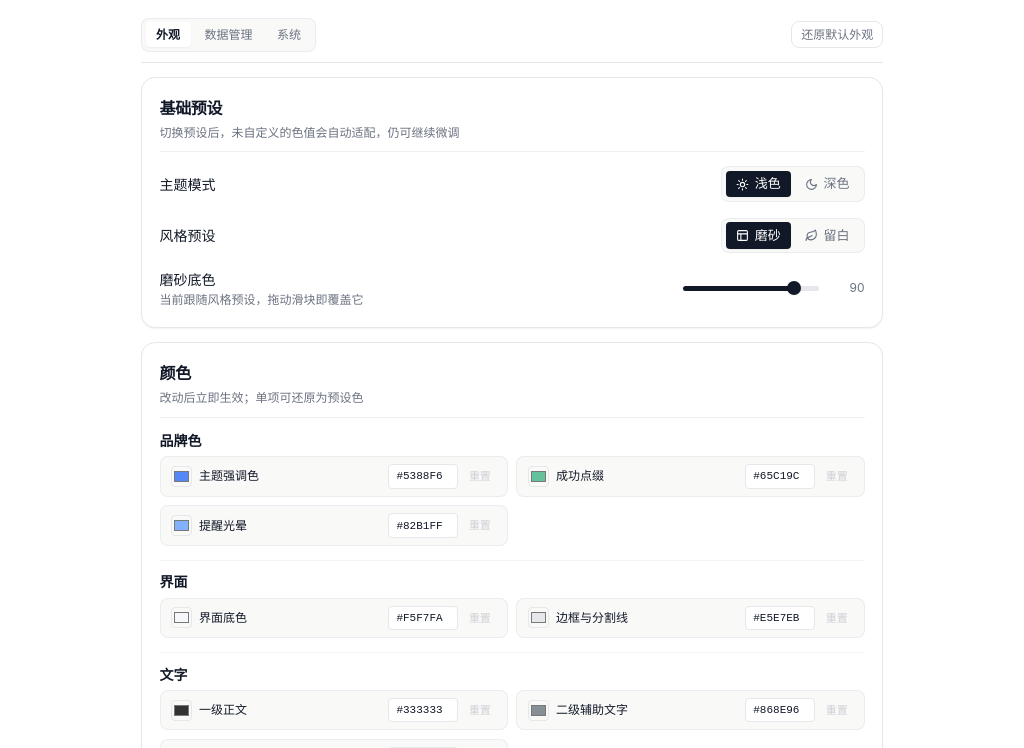
Test: 设置页与工作台整体重构验证 › 设置页「数据管理」分类标签使用双列卡片与内联新建输入框（无 window.prompt / 原生 select）
Click the tab "数据管理" at point(228, 34), box [194,22,263,47]
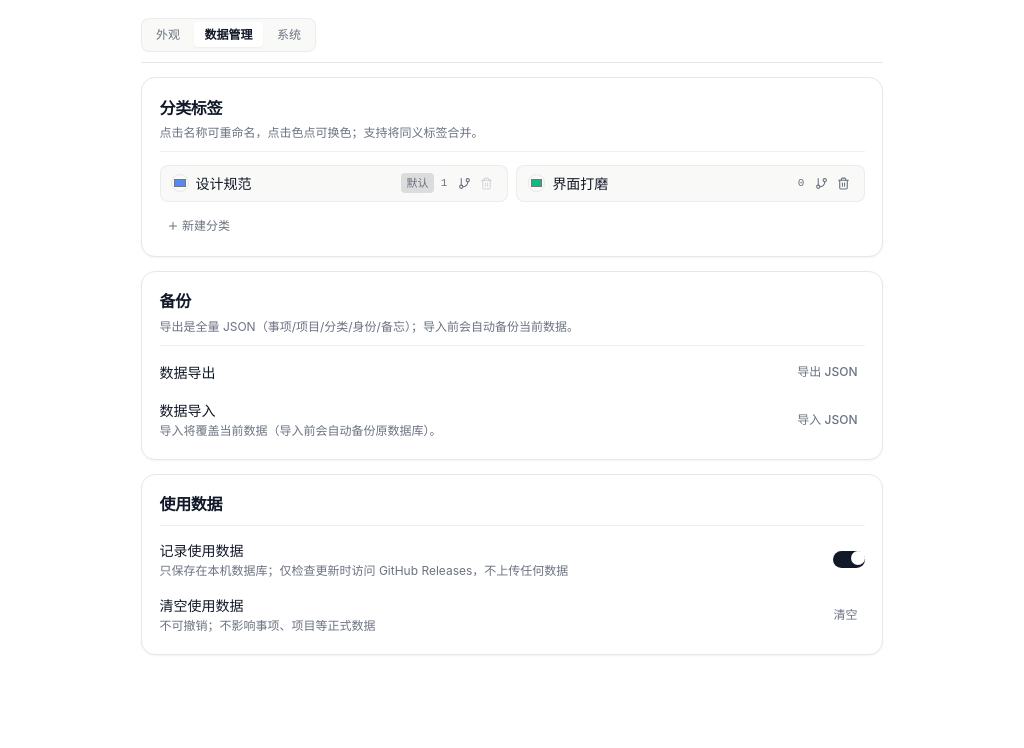
Result: the button "设计规范" is shown at [196,172,394,194]
Result: the button "界面打磨" is shown at [552,172,791,194]
Click the button "新建分类" at point(198, 226), box [160,214,237,238]
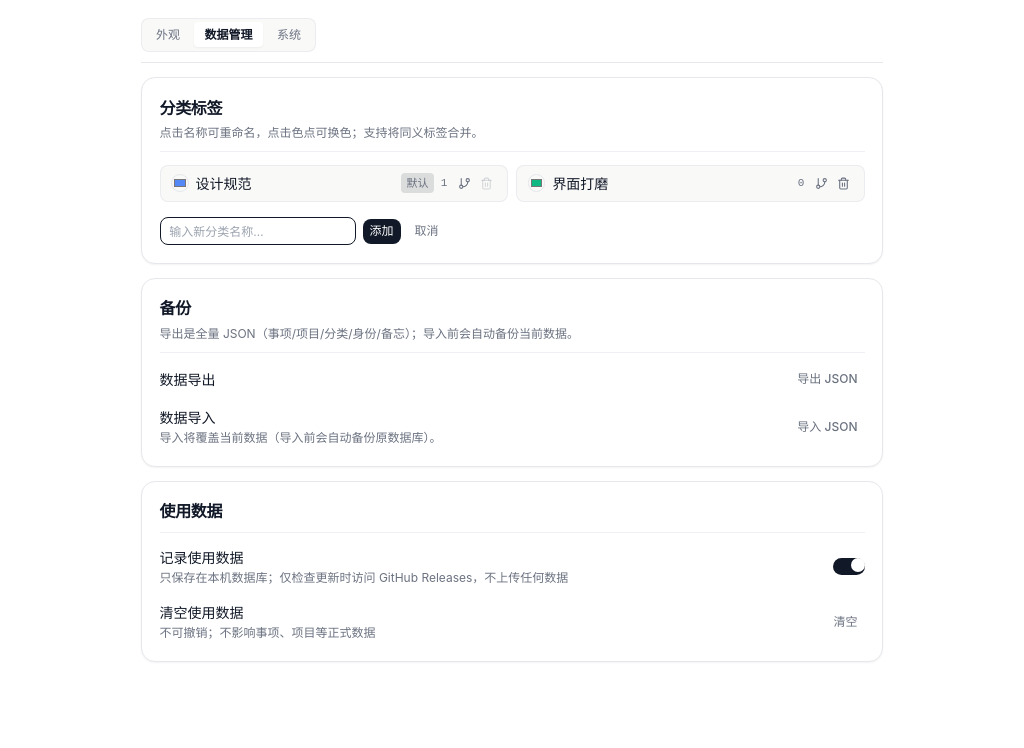
Result: the field with placeholder "输入新分类名称…" is shown at [160,217,356,245]
